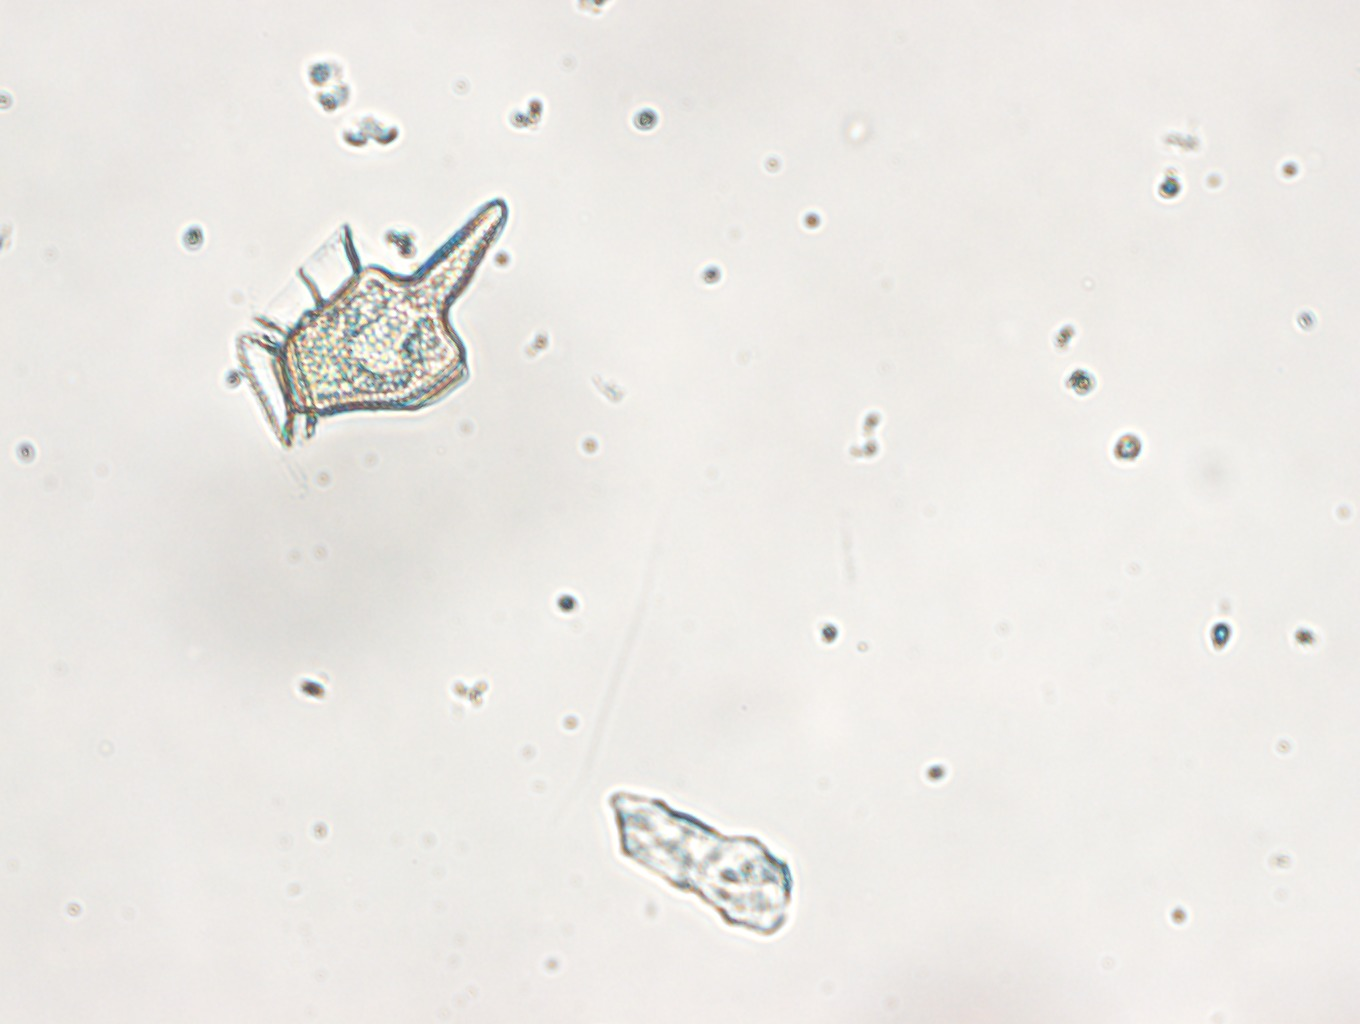dinophysis caudata: (237, 197, 509, 450)
